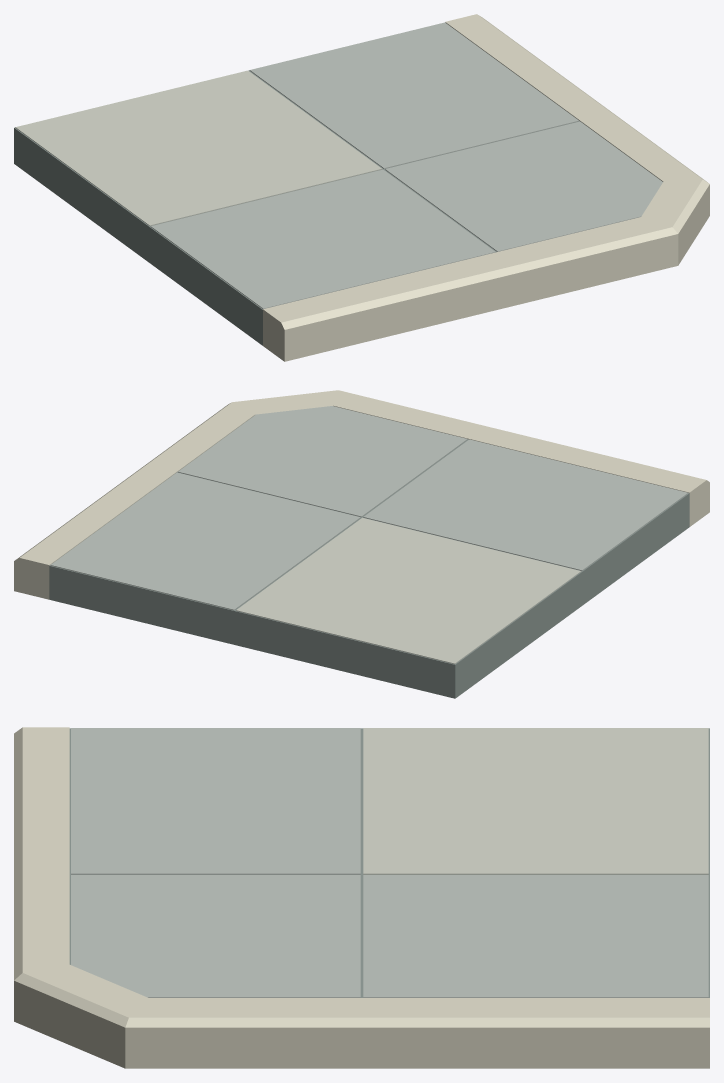
Rendered from sidewalk_outer_corner.glb.
The picture shows the model from 3 angles, top to bottom: view 1: azimuth 30°, elevation 25°; view 2: azimuth 150°, elevation 25°; view 3: azimuth 270°, elevation 25°; orthographic projection. The views are drawn at different scales.
Parts seen in each view (by area): view 1: sidewalk_outer_corner; view 2: sidewalk_outer_corner; view 3: sidewalk_outer_corner.
Boxes of the visible parts, left/top/right/bottom form: sidewalk_outer_corner: left=14, top=14, right=709, bottom=361; sidewalk_outer_corner: left=14, top=390, right=709, bottom=698; sidewalk_outer_corner: left=14, top=727, right=709, bottom=1068.
Bounding box in the file's own units: 2 × 0.15 × 2.
